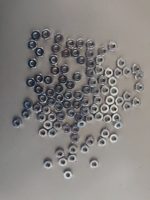nut: (42, 29, 52, 40), (31, 30, 41, 41), (35, 47, 45, 58), (28, 58, 38, 69), (108, 41, 118, 52), (114, 68, 124, 79), (35, 74, 45, 85), (26, 78, 36, 88), (23, 100, 33, 110), (22, 110, 32, 120), (52, 44, 62, 54), (77, 39, 87, 49), (66, 39, 76, 49), (77, 55, 87, 65), (117, 58, 127, 68), (123, 67, 133, 77), (110, 87, 120, 97), (135, 83, 145, 93), (73, 73, 83, 83), (86, 69, 96, 79), (86, 39, 96, 49), (95, 55, 105, 65), (51, 66, 61, 76), (71, 134, 81, 144), (63, 170, 73, 180), (135, 71, 145, 81), (34, 85, 44, 95), (55, 33, 64, 44), (133, 97, 142, 108), (116, 96, 125, 107), (92, 86, 101, 97), (83, 85, 92, 96), (99, 46, 108, 57), (44, 75, 53, 86), (29, 40, 38, 50), (13, 118, 22, 128), (86, 137, 96, 146), (109, 77, 118, 87), (105, 68, 114, 78), (101, 104, 110, 114), (82, 97, 91, 107), (67, 81, 76, 91), (61, 65, 70, 75), (50, 55, 59, 65), (33, 103, 42, 113), (47, 88, 56, 98), (57, 112, 66, 122), (67, 108, 76, 118), (63, 124, 72, 134), (42, 105, 51, 115), (64, 91, 73, 101), (74, 91, 83, 101), (73, 100, 82, 110), (90, 104, 99, 114), (103, 115, 113, 124), (114, 121, 124, 130), (101, 129, 111, 138), (133, 64, 142, 74), (48, 129, 58, 138), (62, 49, 71, 59), (95, 112, 104, 122), (86, 50, 96, 59), (54, 103, 64, 112), (98, 76, 107, 86), (124, 102, 133, 112), (46, 89, 56, 98), (94, 95, 103, 105), (89, 78, 98, 88), (47, 98, 57, 107), (110, 135, 119, 144), (113, 114, 122, 123), (98, 138, 107, 147), (90, 160, 99, 169), (81, 145, 90, 154), (56, 150, 65, 159), (39, 129, 48, 138), (86, 114, 95, 123), (37, 113, 46, 122), (106, 96, 115, 105), (48, 113, 57, 122), (44, 121, 53, 130), (55, 85, 64, 94), (77, 119, 86, 128), (55, 94, 64, 103), (96, 66, 105, 75), (101, 86, 110, 95), (44, 160, 52, 170), (38, 95, 48, 103), (71, 126, 80, 134), (124, 92, 132, 101), (69, 146, 78, 154), (68, 155, 77, 163), (59, 76, 68, 84), (64, 101, 72, 110), (86, 60, 95, 68), (81, 107, 89, 116), (110, 105, 118, 114), (59, 159, 67, 167), (54, 122, 62, 130), (73, 50, 80, 57)
